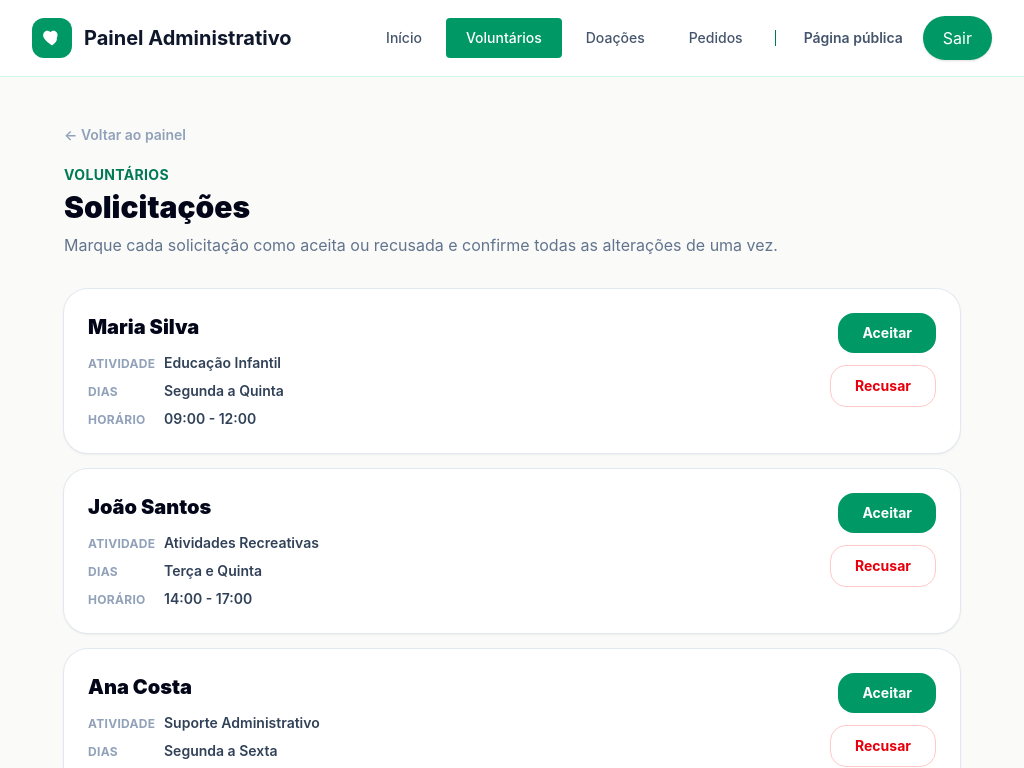
SolicitacoesVoluntariosPage › Aceitar solicitação › exibe "Confirmando..." no botão do modal durante o processamento
Click the button "Aceitar" in the row of "Maria Silva".
click(887, 333)  # box x1=838 y1=313 x2=936 y2=353
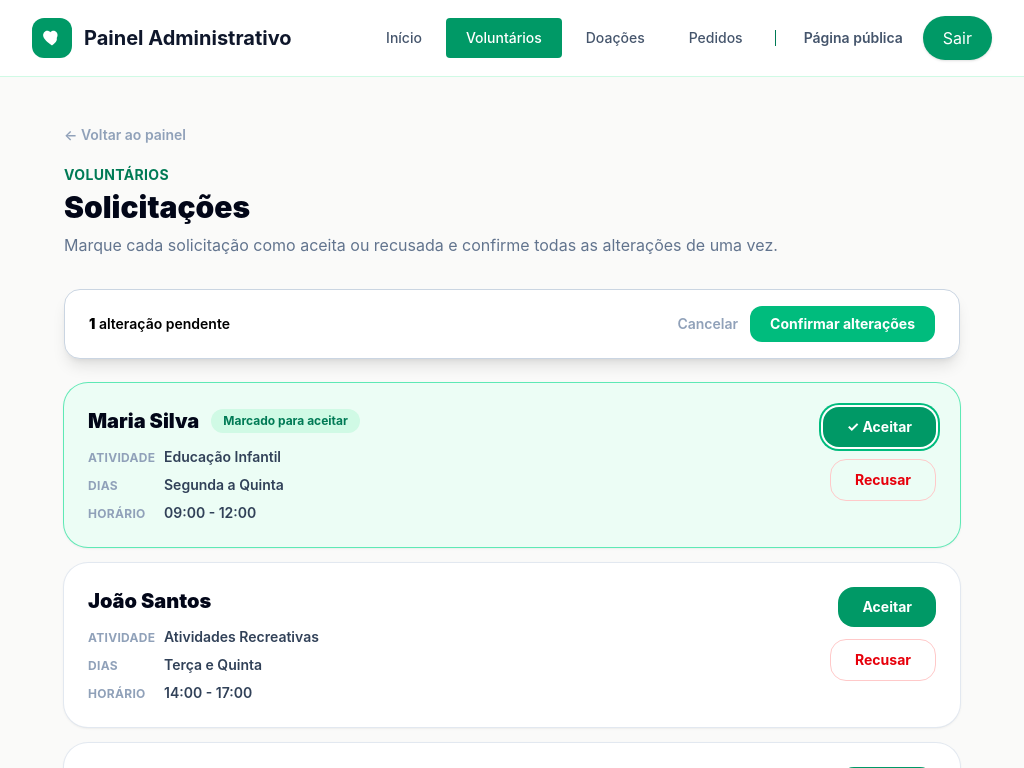
Click the button "Confirmar alterações".
click(842, 324)  # box x1=750 y1=306 x2=935 y2=342
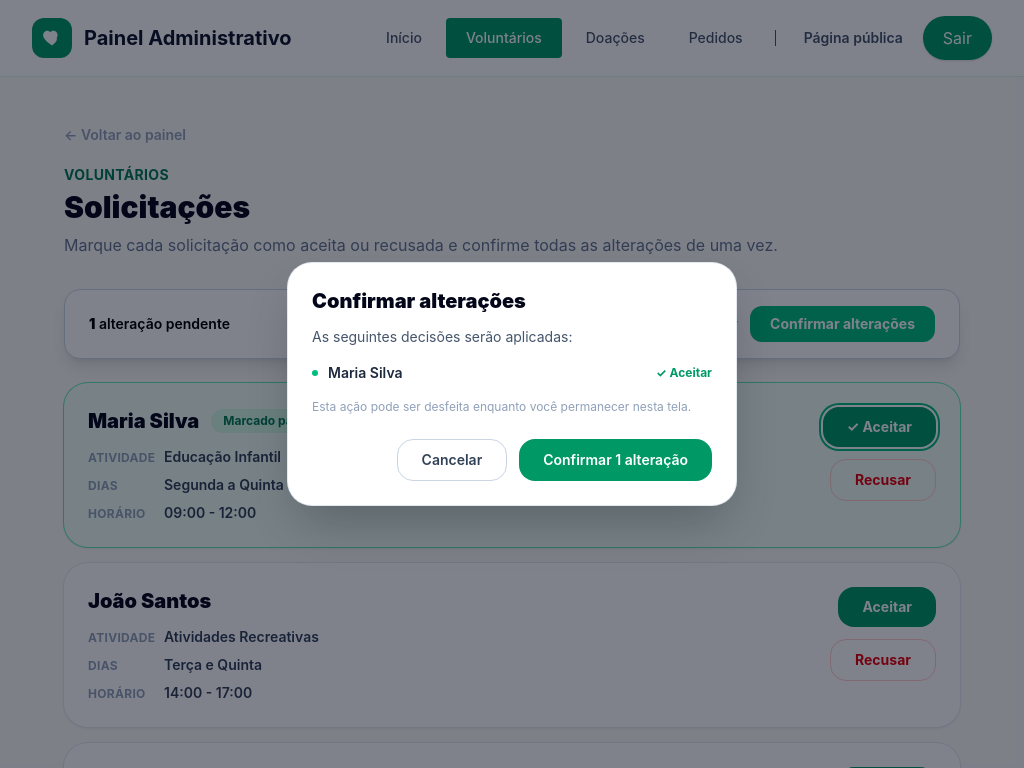
Click the button "Confirmar 1 alteração".
click(616, 460)  # box x1=519 y1=439 x2=712 y2=481
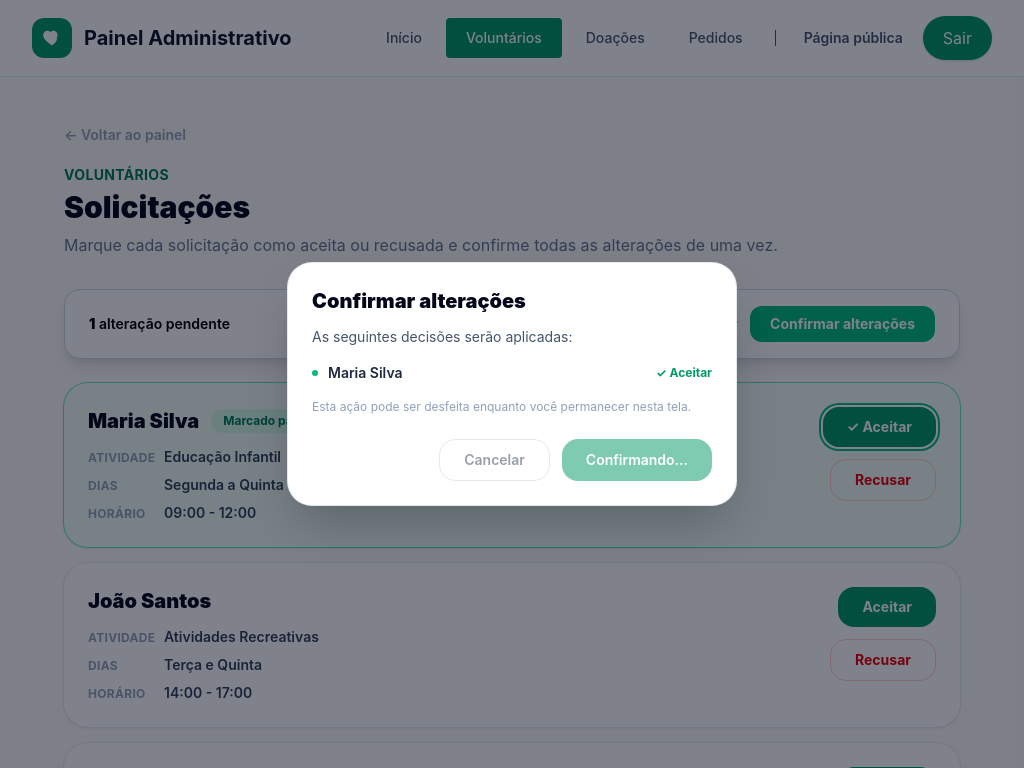
Check: the button "Confirmando..." is shown, box x1=562 y1=439 x2=712 y2=481
